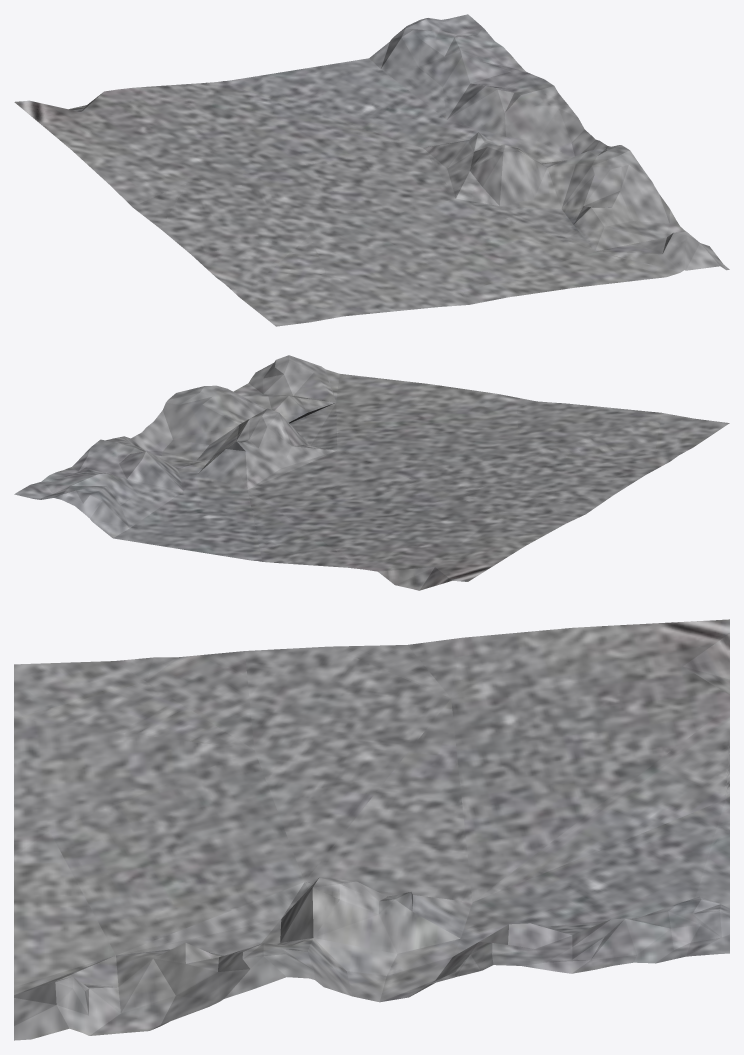
The picture shows the model from 3 angles, top to bottom: view 1: azimuth 30°, elevation 25°; view 2: azimuth 150°, elevation 25°; view 3: azimuth 270°, elevation 25°; orthographic projection. The views are drawn at different scales.
Bounding box in the file's own units: 0.8373 × 0.153 × 0.8374.
3 materials, 3 textured.
